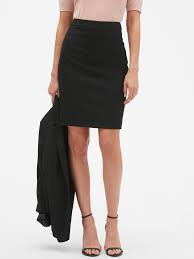F_tailored skirt: (49, 15, 138, 131)
